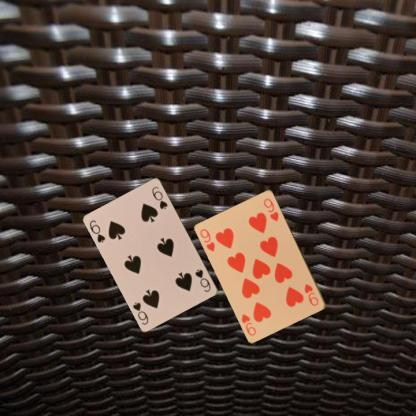6s: (87, 217, 107, 244), (192, 267, 212, 293)
9h: (198, 226, 216, 253), (302, 281, 320, 307)
